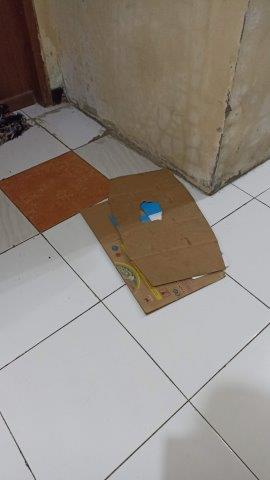kardus: (87, 171, 224, 304)
